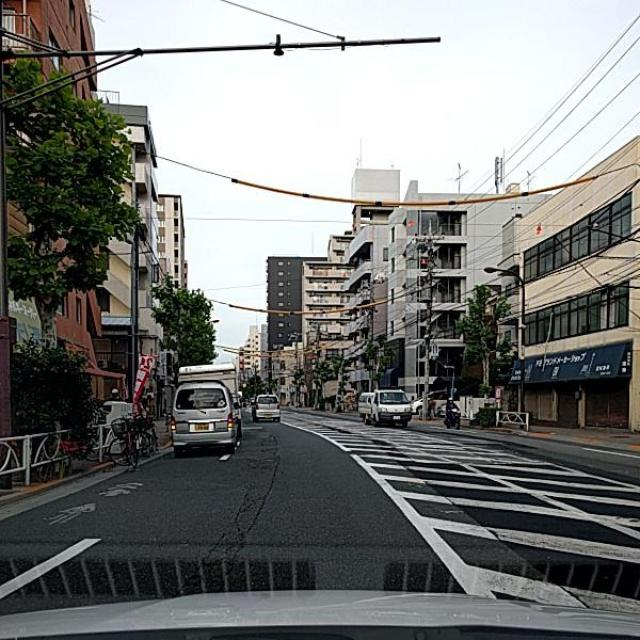Crack: (237, 430, 301, 550)
